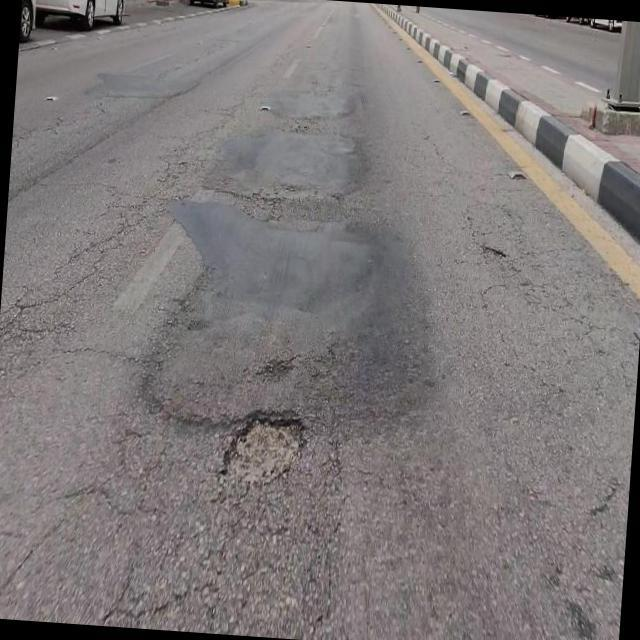Pothole: (221, 413, 305, 483)
